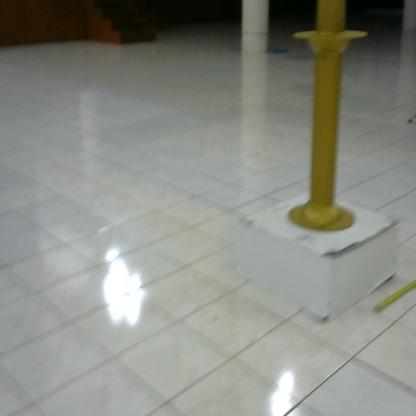pole: (287, 1, 375, 244)
